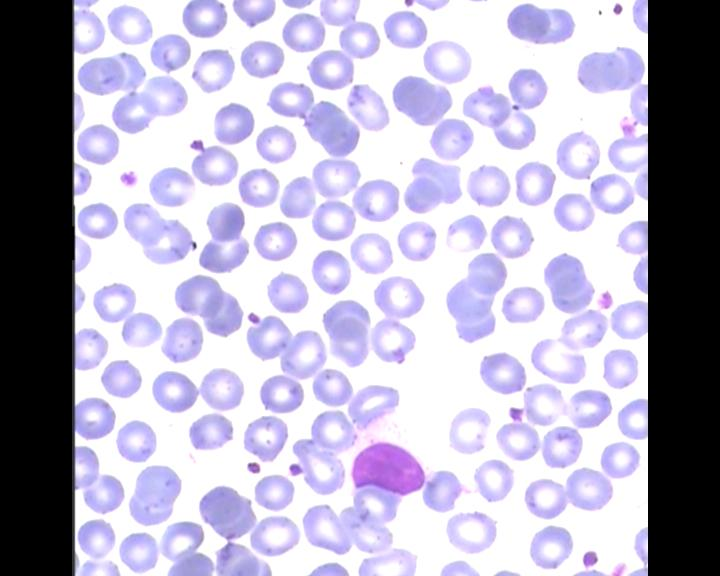mono: (338, 414, 436, 504)
